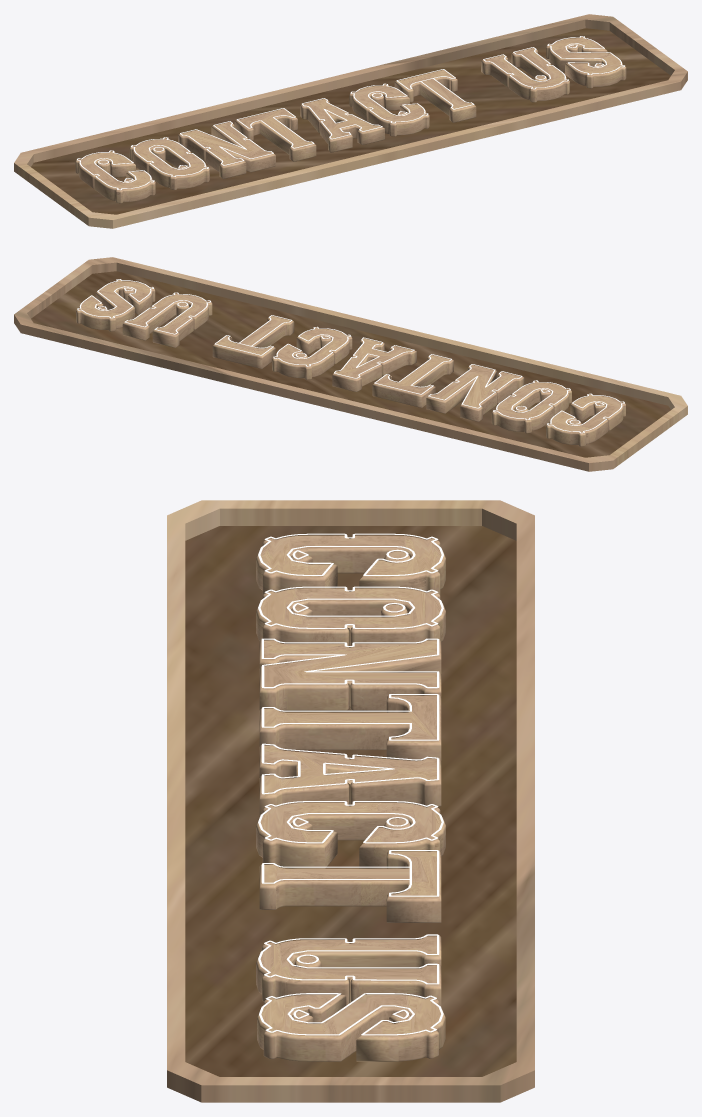
File: NixEmm.glb
3 renders of one model, top to bottom at view 1: azimuth 30°, elevation 25°; view 2: azimuth 150°, elevation 25°; view 3: azimuth 270°, elevation 25°, orthographic. The views are drawn at different scales.
Parts seen in each view (by area): view 1: Plane, Text.002, Lines.001; view 2: Plane, Text.002, Lines.001; view 3: Plane, Text.002, Lines.001.
Part boxes in pixels (x1,y1,x2,y2): Plane: [14, 14, 687, 228]; Text.002: [75, 37, 626, 203]; Lines.001: [77, 36, 624, 190]; Plane: [14, 257, 687, 471]; Text.002: [76, 280, 625, 446]; Lines.001: [77, 279, 624, 433]; Plane: [167, 500, 534, 1102]; Text.002: [256, 535, 445, 1061]; Lines.001: [258, 533, 443, 1035].
Bounding box in the file's own units: 4.28 × 0.0932 × 1.14.
2 materials, 1 textured.
